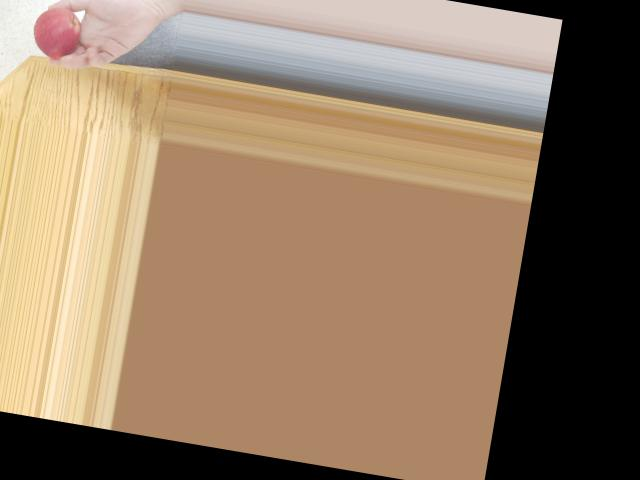apple: (27, 0, 85, 64)
